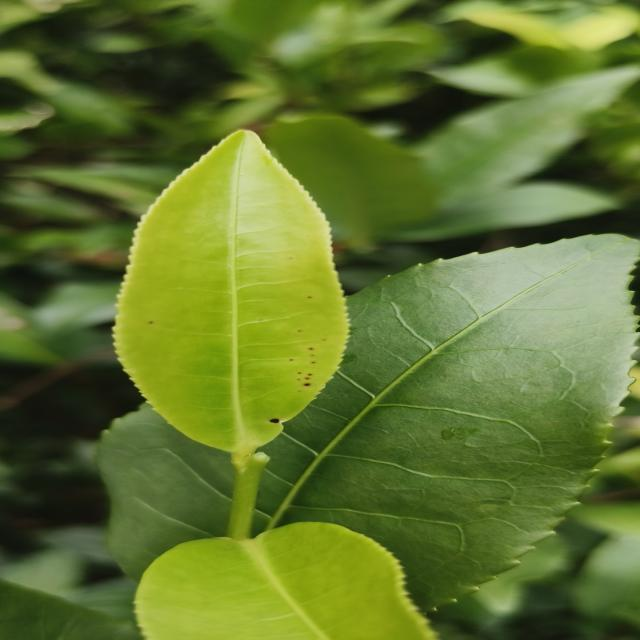Leaf: (252, 234, 638, 612), (114, 131, 348, 453), (135, 522, 434, 640), (413, 66, 640, 206), (98, 404, 234, 579), (265, 115, 434, 246), (386, 181, 617, 242)
